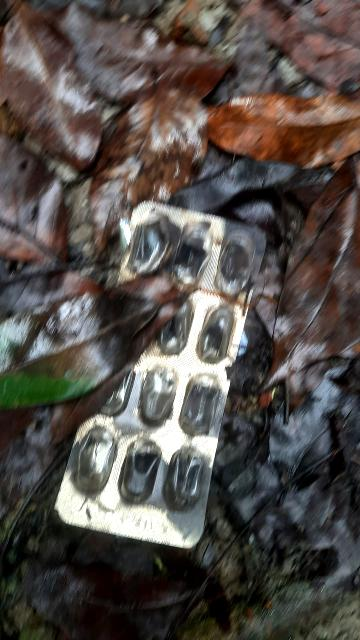medicine: (54, 195, 278, 555)
